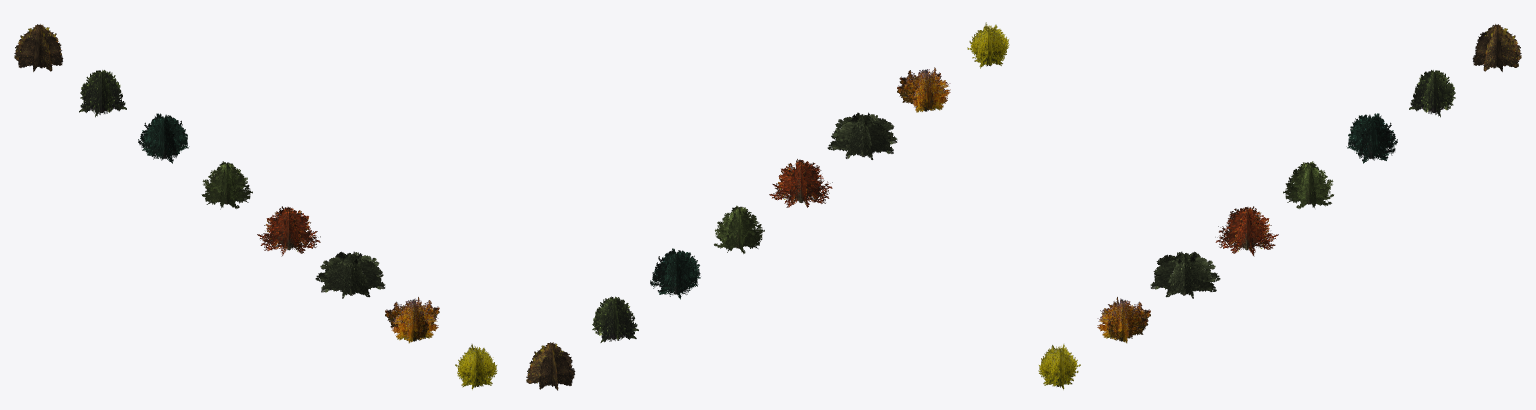
File: bush.glb
3 renders of one model, left to right at view 1: azimuth 30°, elevation 25°; view 2: azimuth 150°, elevation 25°; view 3: azimuth 330°, elevation 25°, orthographic.
Visible parts, largest first — view 1: bush02_lod0, bush07_lod0, bush05_lod0, bush08_lod0, bush01_lod0, bush04_lod0, bush06_lod0, bush03_lod0; view 2: bush02_lod0, bush07_lod0, bush08_lod0, bush05_lod0, bush01_lod0, bush04_lod0, bush06_lod0, bush03_lod0; view 3: bush02_lod0, bush07_lod0, bush08_lod0, bush01_lod0, bush04_lod0, bush05_lod0, bush06_lod0, bush03_lod0.
Part boxes in pixels (left/top/right/bottom): bush02_lod0: left=315, top=251, right=385, bottom=298; bush07_lod0: left=257, top=206, right=320, bottom=256; bush05_lod0: left=385, top=297, right=439, bottom=343; bush08_lod0: left=138, top=113, right=189, bottom=163; bush01_lod0: left=14, top=24, right=63, bottom=71; bush04_lod0: left=201, top=161, right=252, bottom=209; bush06_lod0: left=79, top=70, right=126, bottom=117; bush03_lod0: left=455, top=344, right=497, bottom=389; bush02_lod0: left=827, top=112, right=897, bottom=159; bush07_lod0: left=769, top=159, right=832, bottom=207; bush08_lod0: left=650, top=248, right=700, bottom=299; bush05_lod0: left=897, top=67, right=950, bottom=112; bush01_lod0: left=526, top=342, right=575, bottom=390; bush04_lod0: left=714, top=205, right=764, bottom=253; bush06_lod0: left=592, top=296, right=638, bottom=342; bush03_lod0: left=967, top=22, right=1009, bottom=68; bush02_lod0: left=1150, top=251, right=1220, bottom=298; bush07_lod0: left=1215, top=206, right=1278, bottom=256; bush08_lod0: left=1346, top=113, right=1397, bottom=163; bush01_lod0: left=1472, top=24, right=1521, bottom=71; bush04_lod0: left=1283, top=161, right=1333, bottom=208; bush05_lod0: left=1097, top=297, right=1150, bottom=343; bush06_lod0: left=1409, top=70, right=1455, bottom=117; bush03_lod0: left=1038, top=344, right=1080, bottom=389.
Size of what is drawn, in the model's own units: 12 by 7.5 by 148.
8 materials, 8 textured.
